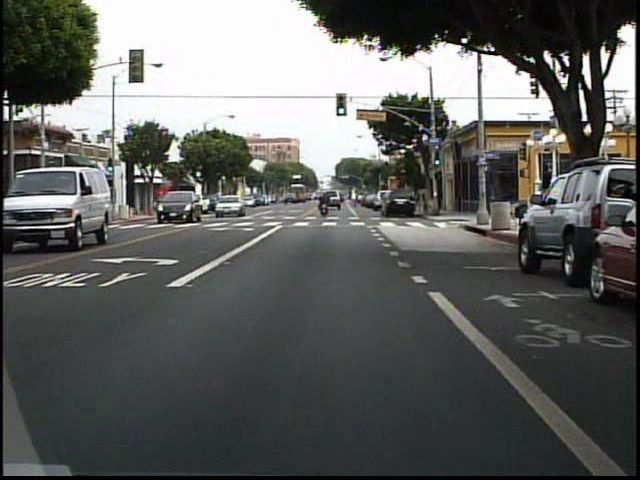person: (67, 191, 85, 221), (78, 191, 90, 222), (319, 190, 331, 219)
